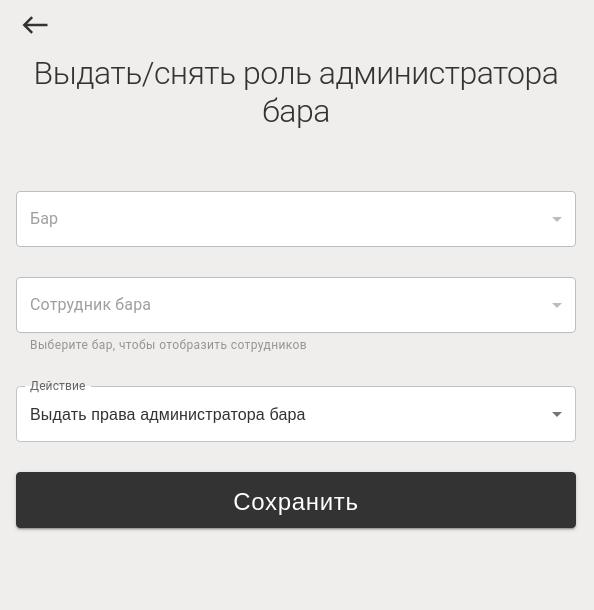
SuperGrantBarAdminPage › показывает ошибки если не выбран бар или сотрудник
Click the button "Сохранить". click: (296, 500)
box: [16,472,576,528]
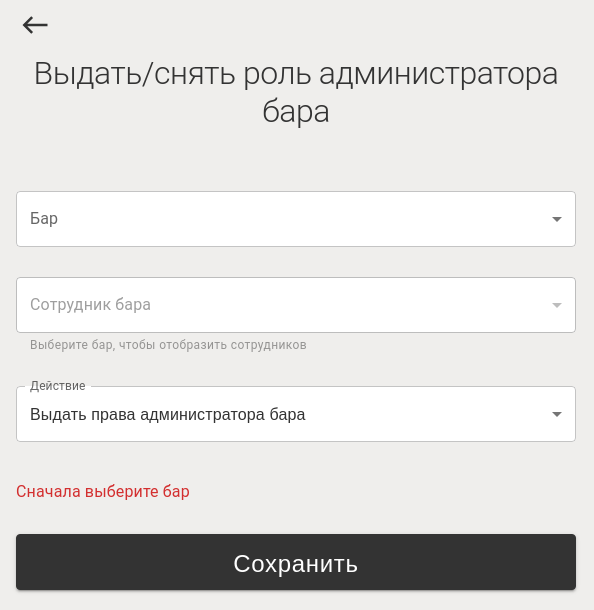
Expected: the text "Сначала выберите бар" is shown, [16,482,190,501]
